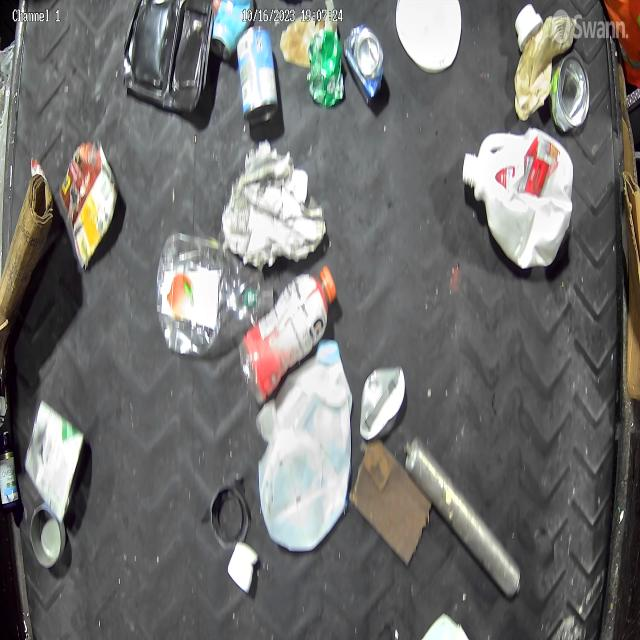can: (58, 136, 118, 270), (25, 396, 87, 518), (235, 26, 280, 126), (359, 362, 407, 444), (343, 21, 386, 103), (550, 52, 592, 132), (306, 27, 342, 109), (210, 0, 255, 64), (28, 503, 66, 569)
milk_jug: (255, 337, 354, 552), (461, 128, 574, 272)
plastic_bottle: (156, 232, 275, 356)
